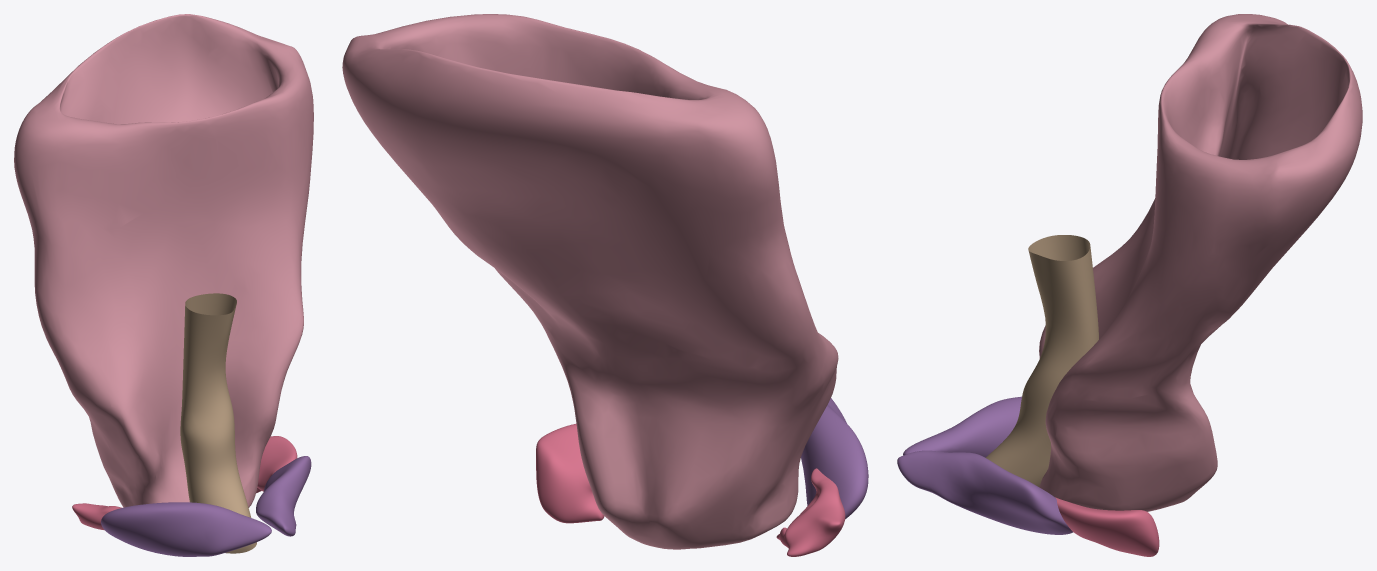
The model's file is greater-vestibular.glb.
3 views of the same model, side by side, from view 1: azimuth 30°, elevation 25°; view 2: azimuth 150°, elevation 25°; view 3: azimuth 270°, elevation 25° (orthographic). The views are drawn at different scales.
Parts seen in each view (by area): view 1: vaginal_wall, urethral_submucosa, vestibular_bulbs, greater_vestibular_gland_left, greater_vestibular_gland_right; view 2: vaginal_wall, greater_vestibular_gland_left, vestibular_bulbs, greater_vestibular_gland_right; view 3: vaginal_wall, urethral_submucosa, vestibular_bulbs, greater_vestibular_gland_left.
Boxes of the visible parts, box(x1,y1,x2,y2) form: vaginal_wall: box(14, 14, 313, 507); urethral_submucosa: box(180, 293, 256, 553); vestibular_bulbs: box(101, 456, 311, 556); greater_vestibular_gland_left: box(256, 436, 297, 493); greater_vestibular_gland_right: box(72, 503, 122, 530); vaginal_wall: box(342, 14, 838, 549); greater_vestibular_gland_left: box(536, 424, 604, 523); vestibular_bulbs: box(801, 398, 868, 518); greater_vestibular_gland_right: box(776, 468, 845, 556); vaginal_wall: box(1039, 14, 1362, 511); urethral_submucosa: box(985, 235, 1098, 486); vestibular_bulbs: box(897, 396, 1072, 534); greater_vestibular_gland_left: box(1055, 497, 1159, 556).
Size of the model in its own units: 0.5634 by 0.7355 by 0.6392.
